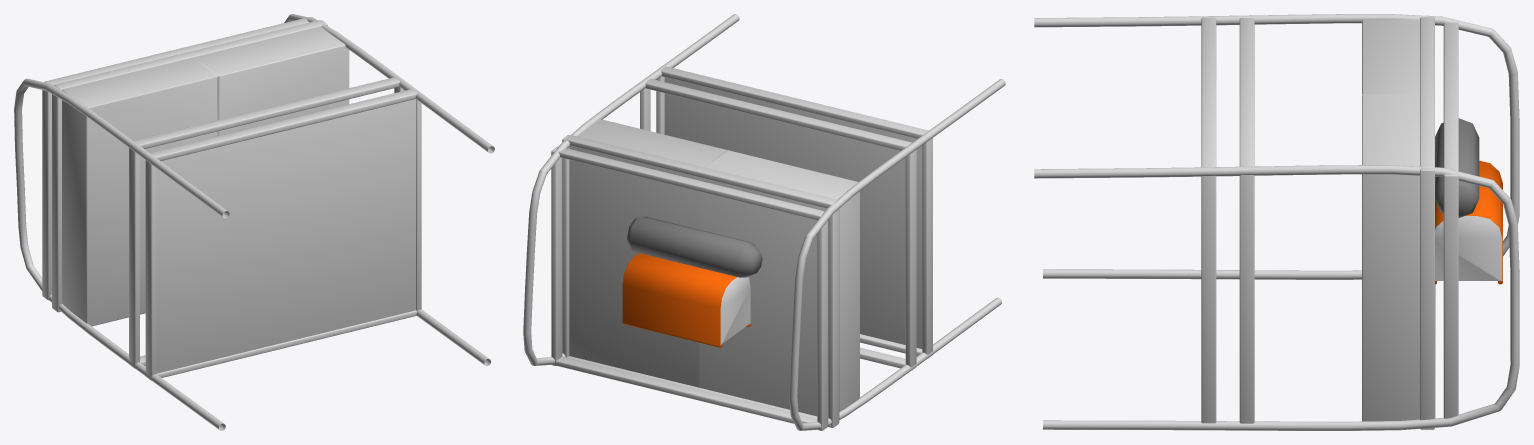
The picture shows the model from 3 angles, left to right: view 1: azimuth 30°, elevation 25°; view 2: azimuth 150°, elevation 25°; view 3: azimuth 270°, elevation 25°; orthographic projection. The views are drawn at different scales.
Parts seen in each view (by area): view 1: Cube; view 2: Cube; view 3: Cube.
Part boxes in pixels (left/top/right/bottom): Cube: left=14, top=14, right=494, bottom=430; Cube: left=523, top=14, right=1005, bottom=430; Cube: left=1034, top=14, right=1519, bottom=430.
Bounding box in the file's own units: 71.5 × 56.76 × 92.59.
